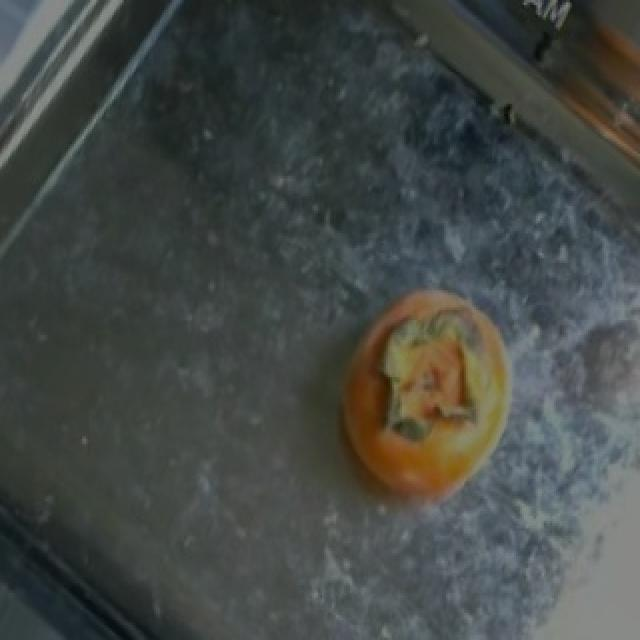Fruit: (312, 273, 536, 541)
